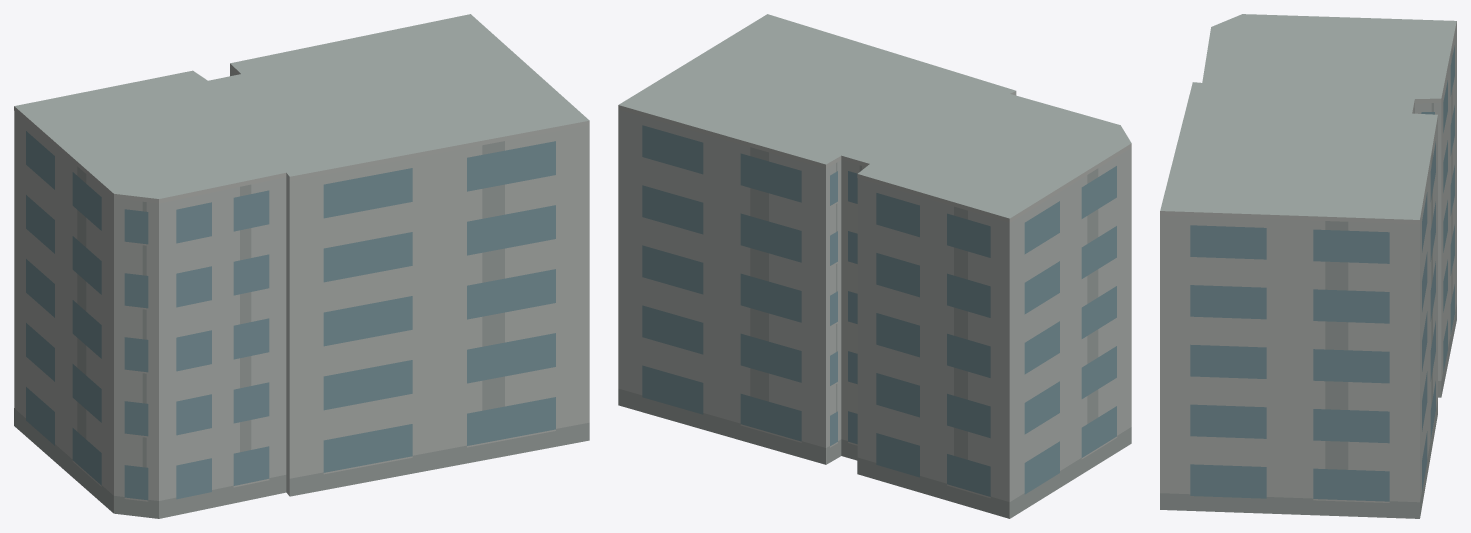
Rendered from survey-upis-33044306.glb.
3 views of the same model, side by side, from view 1: azimuth 30°, elevation 25°; view 2: azimuth 150°, elevation 25°; view 3: azimuth 270°, elevation 25° (orthographic). The views are drawn at different scales.
Visible parts, largest first — view 1: survey-upis-33044306.tmp; view 2: survey-upis-33044306.tmp; view 3: survey-upis-33044306.tmp.
Boxes of the visible parts, left/top/right/bottom form: survey-upis-33044306.tmp: left=14, top=14, right=589, bottom=518; survey-upis-33044306.tmp: left=618, top=14, right=1131, bottom=518; survey-upis-33044306.tmp: left=1160, top=14, right=1456, bottom=518.
Bounding box in the file's own units: 25.36 × 17.15 × 15.44.
